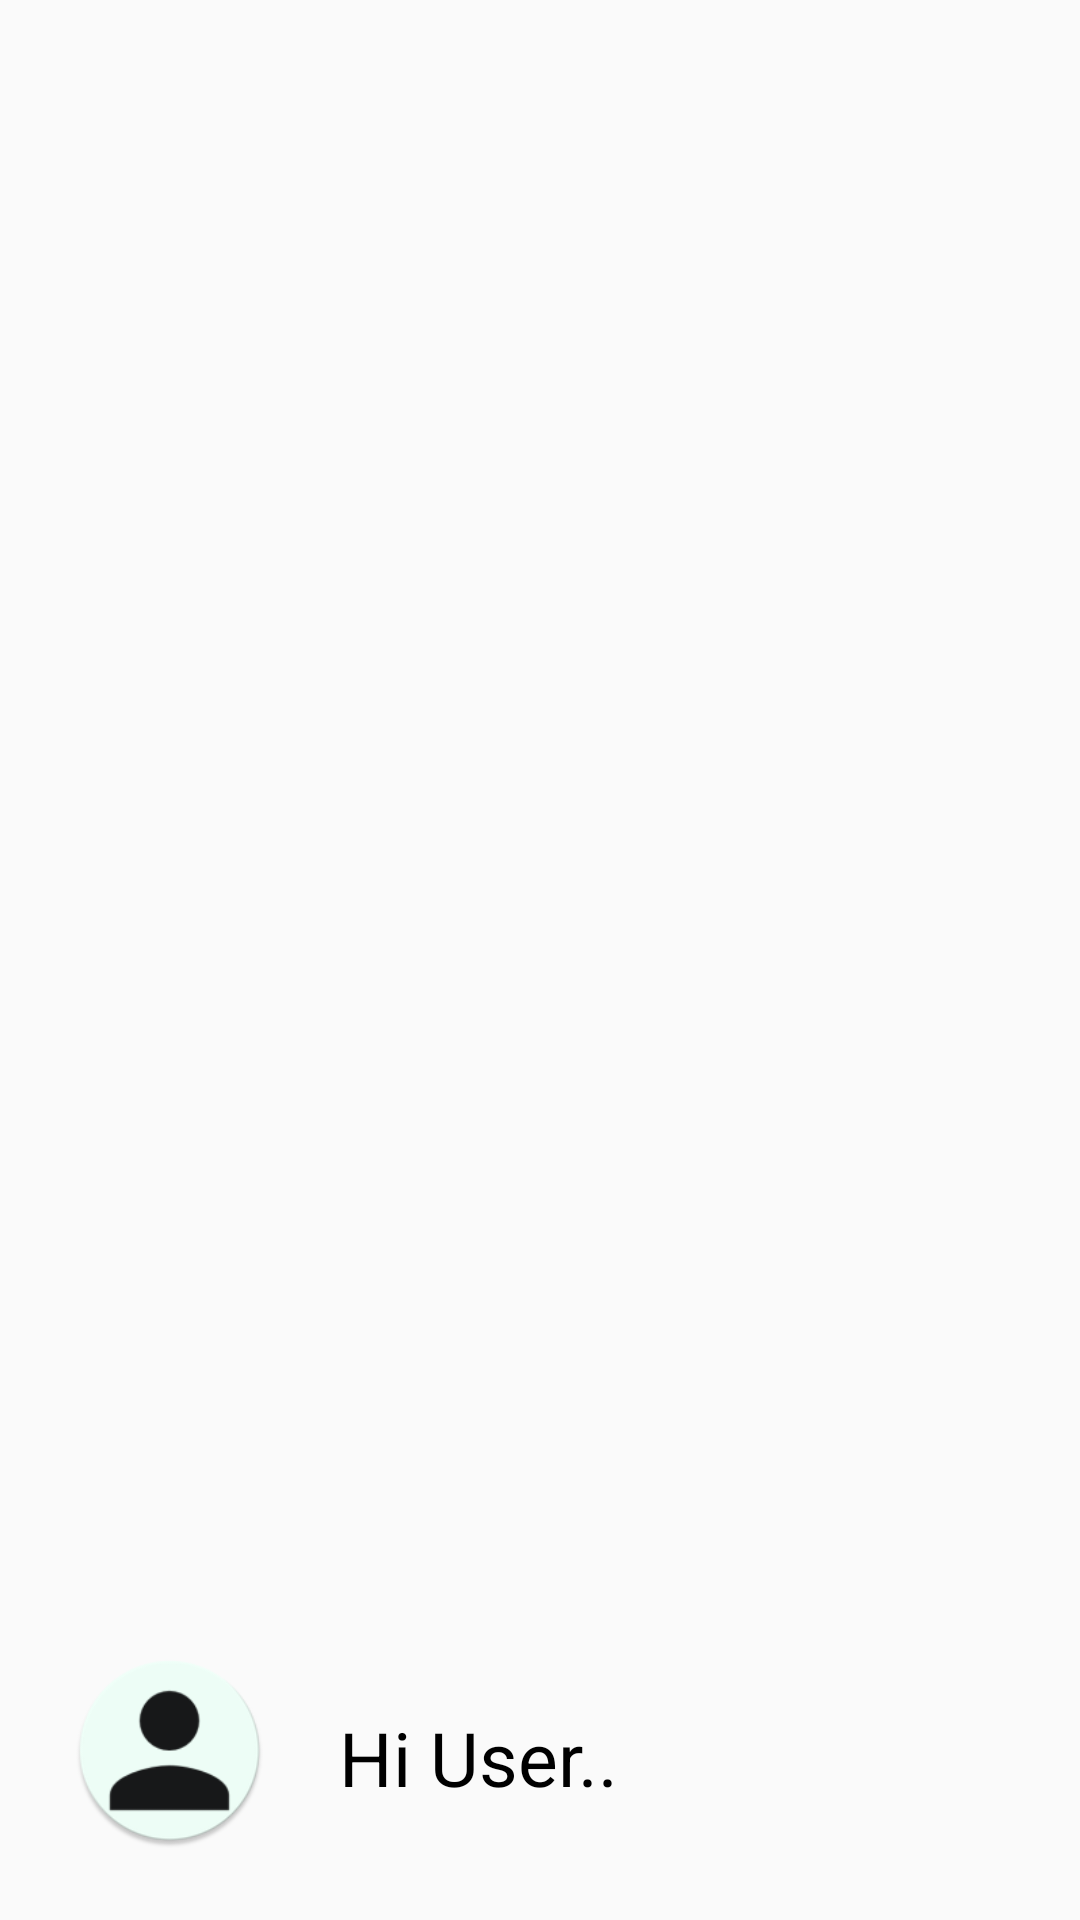

Named icons in this screenshot (1080w x 1920h) and their bounding boxes, (x1, y1, x2, y2):
person: (78, 1661, 261, 1846)
